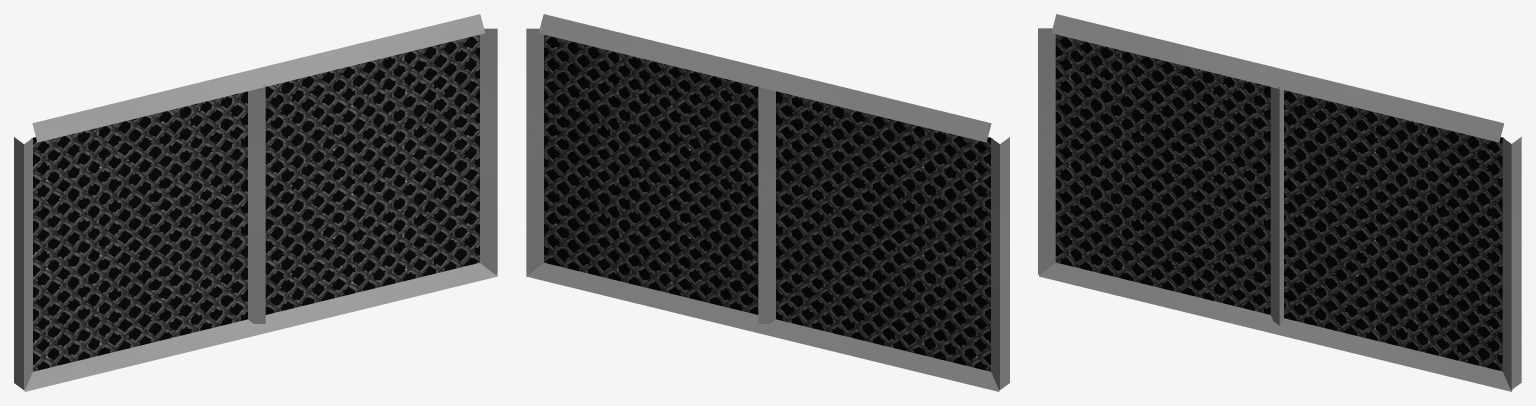
File: fence-chainlink-gate-2m-noPost-cbj_LOD02.gltf
The picture shows the model from 3 angles, left to right: view 1: azimuth 30°, elevation 25°; view 2: azimuth 150°, elevation 25°; view 3: azimuth 330°, elevation 25°; orthographic projection.
Parts seen in each view (by area): view 1: chainlink02; view 2: chainlink02; view 3: chainlink02.
Boxes of the visible parts, box(x1,y1,x2,y2) form: chainlink02: box(14, 14, 497, 391); chainlink02: box(526, 14, 1009, 391); chainlink02: box(1038, 14, 1521, 391).
Size of what is drawn, in the model's own units: 1.9 by 1 by 0.0693.
